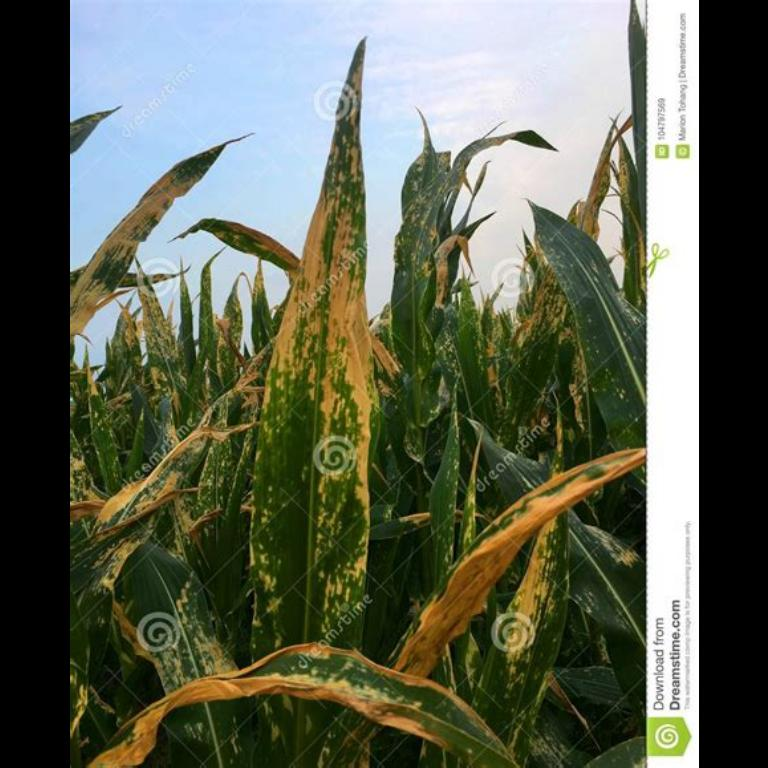blight: (285, 181, 369, 509), (330, 676, 430, 740)
